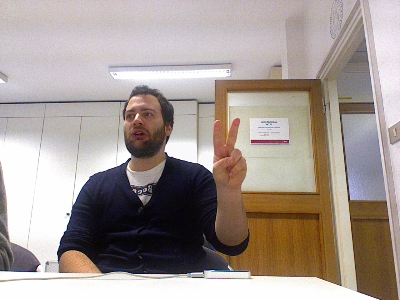剪刀: (211, 116, 247, 187)
